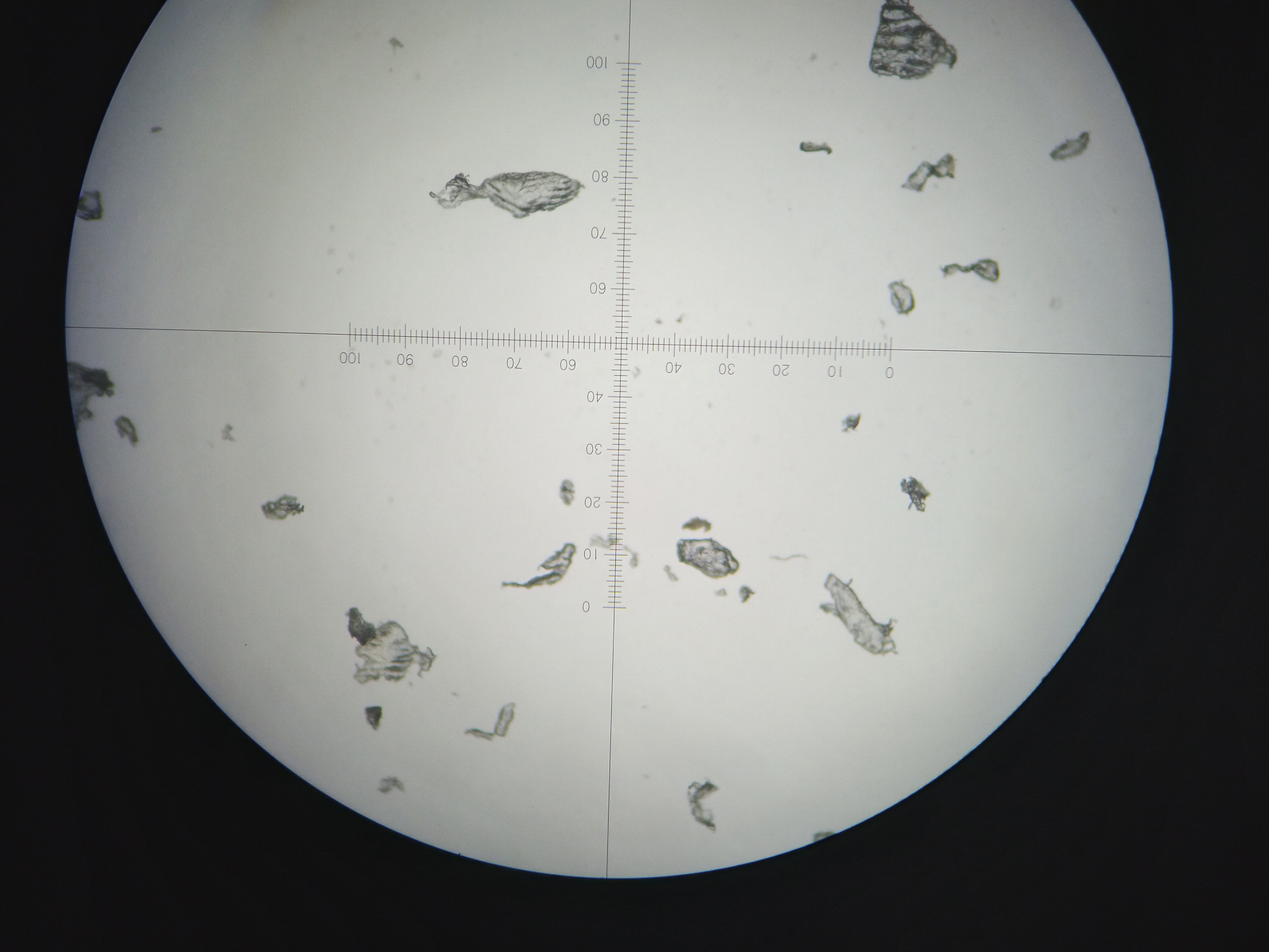microplastic: (422, 165, 590, 225), (341, 605, 442, 692), (870, 1, 959, 86), (818, 572, 898, 660), (63, 355, 119, 435), (498, 543, 579, 594), (462, 700, 526, 750), (673, 536, 742, 582), (900, 152, 962, 197), (939, 256, 1009, 293), (682, 778, 721, 832), (260, 490, 311, 530), (1050, 129, 1092, 166), (899, 473, 932, 517), (885, 279, 919, 320), (75, 186, 108, 228), (114, 413, 144, 449), (796, 139, 836, 160), (589, 533, 625, 556), (379, 773, 410, 799), (361, 705, 386, 733), (843, 408, 866, 437), (557, 478, 578, 507), (681, 517, 715, 534), (220, 419, 239, 449), (769, 552, 814, 564), (735, 584, 760, 604), (621, 544, 638, 573), (812, 829, 835, 842), (148, 124, 166, 137), (717, 584, 728, 598)
